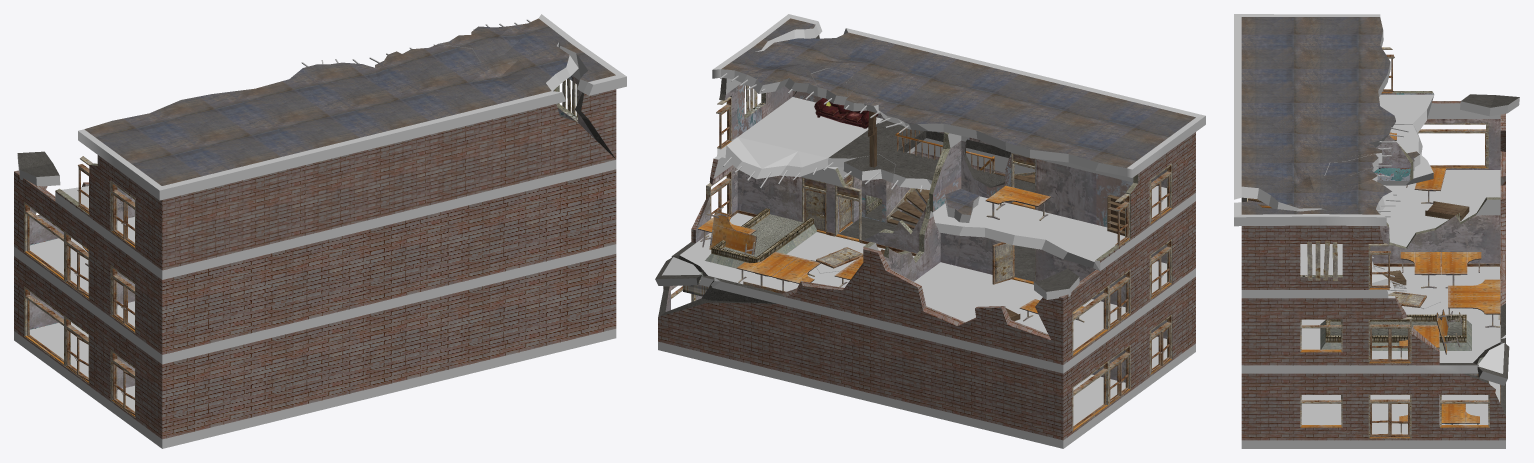
Rendered from Building_16.fbx.
The picture shows the model from 3 angles, left to right: view 1: azimuth 30°, elevation 25°; view 2: azimuth 150°, elevation 25°; view 3: azimuth 270°, elevation 25°; orthographic projection. The views are drawn at different scales.
Visible parts, largest first — view 1: Building_16; view 2: Building_16; view 3: Building_16.
Boxes of the visible parts, <box> form: Building_16: <box>14,14,626,448</box>; Building_16: <box>655,14,1205,448</box>; Building_16: <box>1234,14,1519,448</box>.
Size of the model in its own units: 1296 by 708 by 770.
